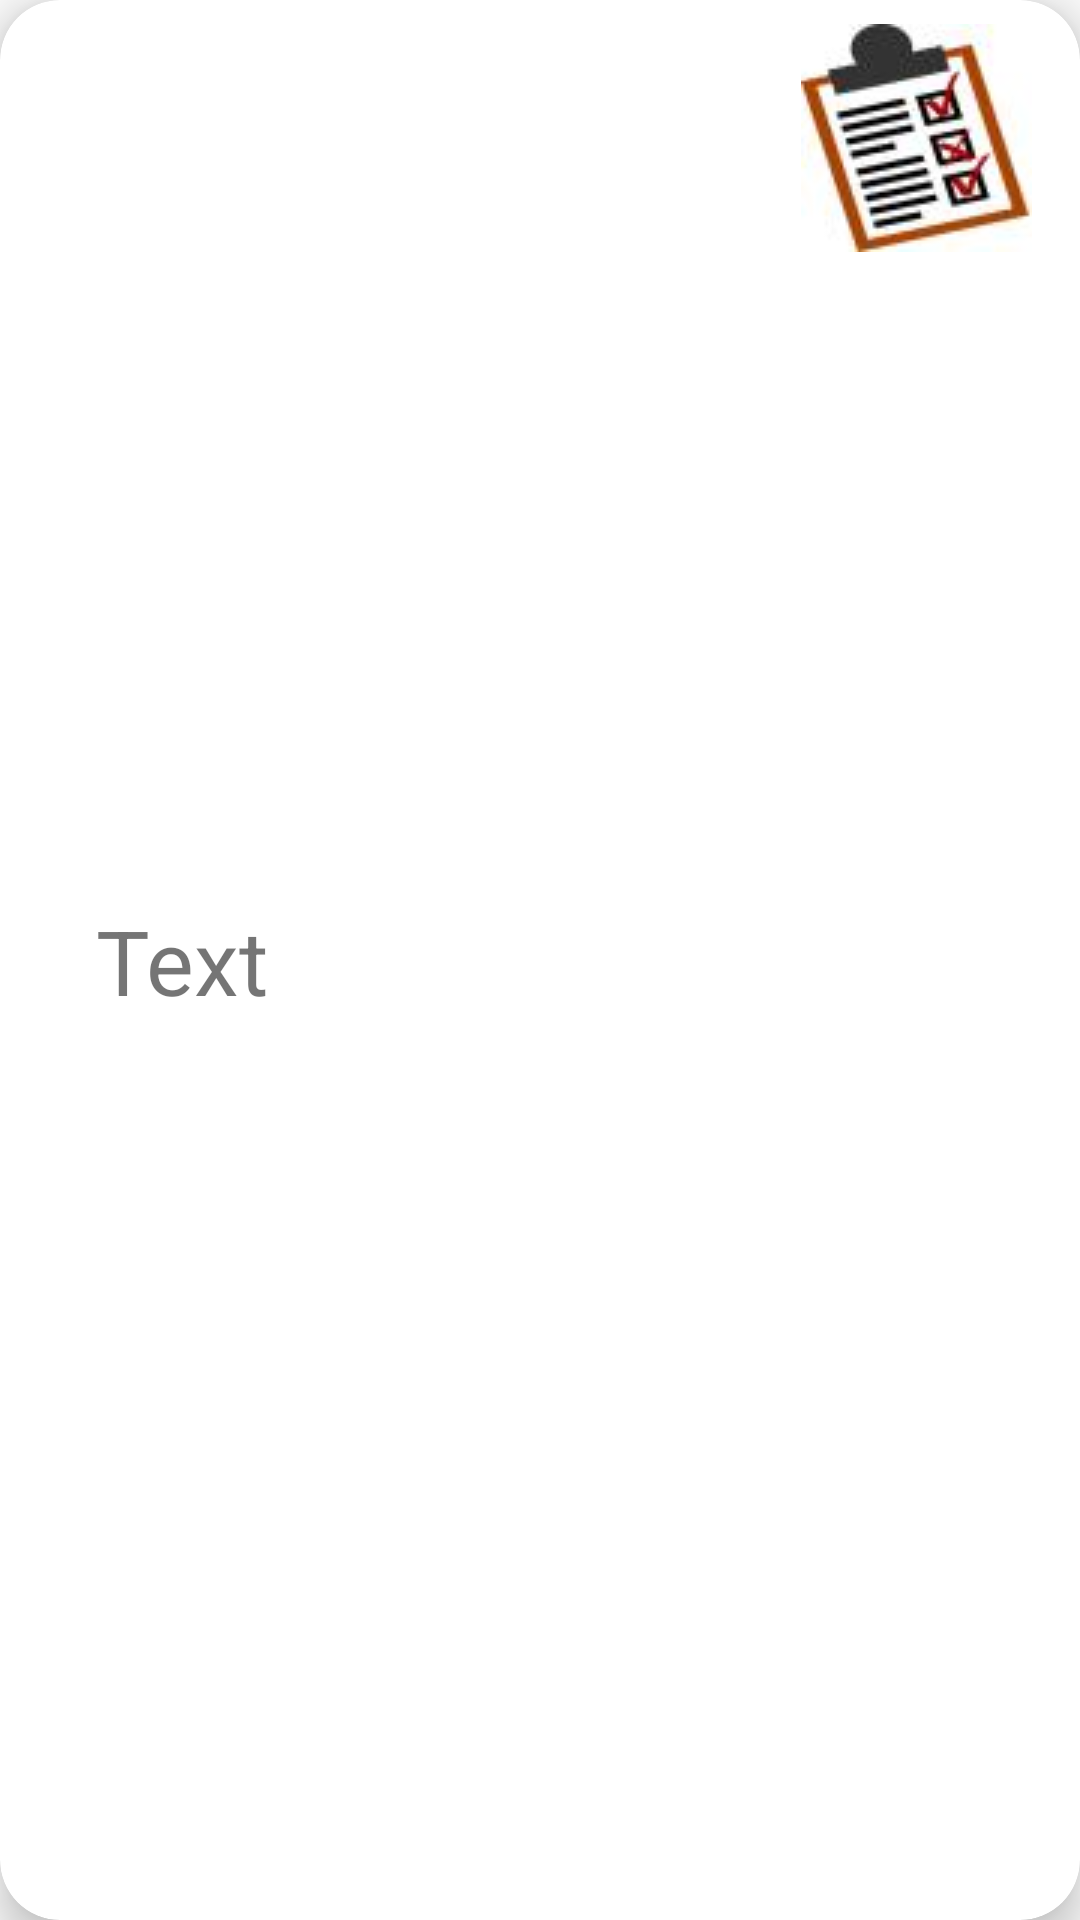

Point at icon controls on the screen. Image size 1080px x 1920px, points as [x,y].
todo: [916,138]
